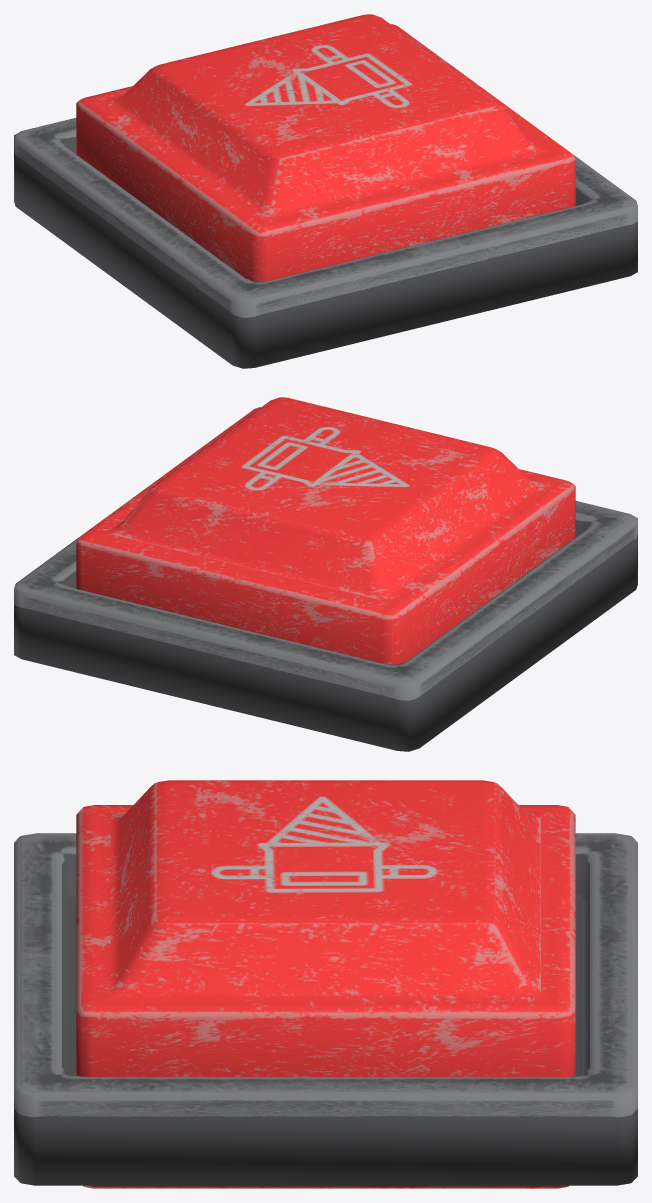
The model's file is knopka_bur.fbx.
3 renders of one model, top to bottom at view 1: azimuth 30°, elevation 25°; view 2: azimuth 150°, elevation 25°; view 3: azimuth 270°, elevation 25°, orthographic. The views are drawn at different scales.
Parts seen in each view (by area): view 1: Cube.021, Cube.022; view 2: Cube.021, Cube.022; view 3: Cube.021, Cube.022.
Boxes of the visible parts, box(x1,y1,x2,y2) form: Cube.021: box(76, 14, 575, 281); Cube.022: box(14, 118, 637, 368); Cube.021: box(76, 397, 575, 664); Cube.022: box(14, 501, 637, 751); Cube.021: box(76, 780, 575, 1188); Cube.022: box(14, 833, 637, 1185).
Size of the model in its own units: 18.98 by 7.96 by 18.98.
